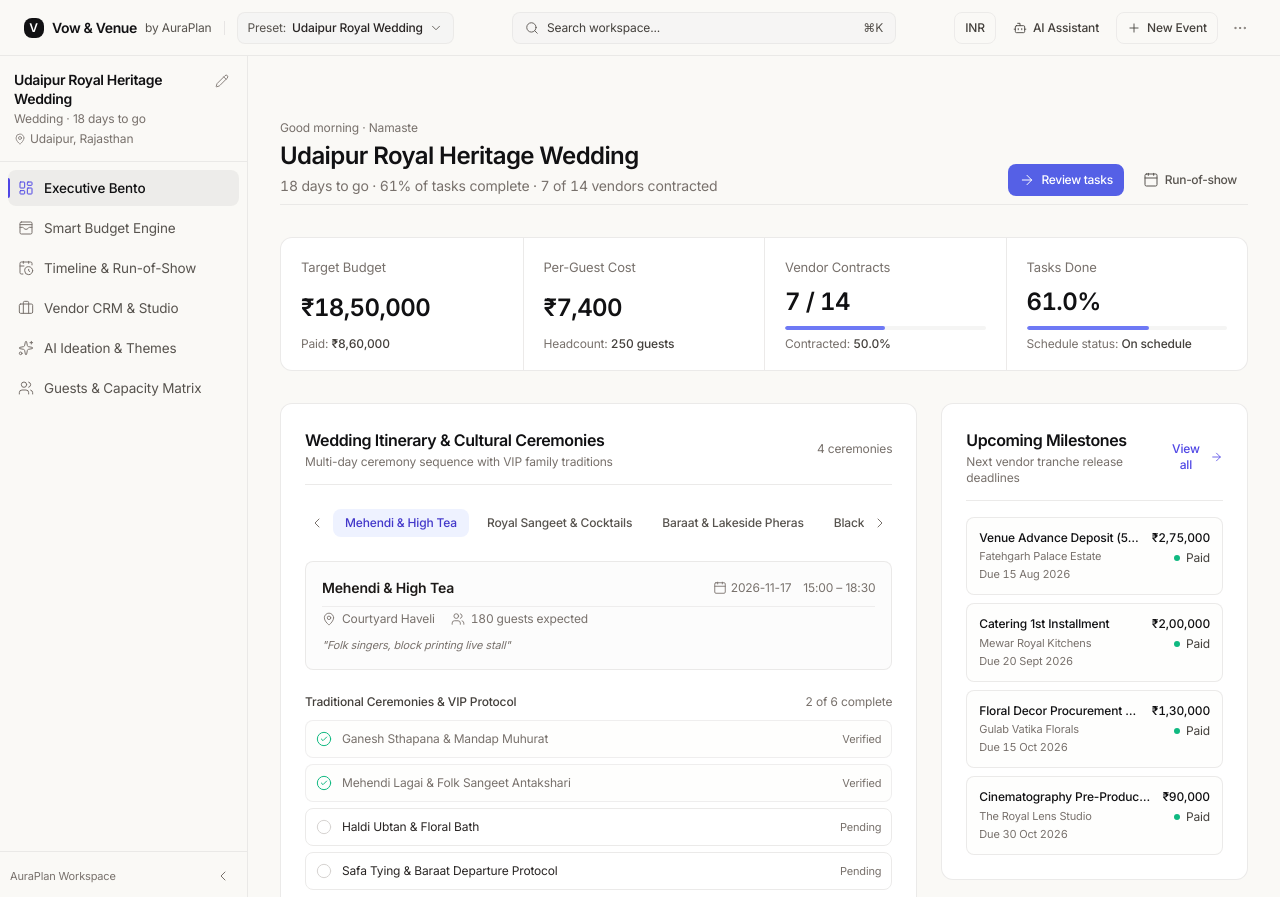
Test: A11y, Navigation & 1-Click Judge Presets Integration › Primary Navigation & View Transitions › transitions between tabs and loads the respective views
Note: Navigate to Budget Tab
What coordinates should you click on to do the following:
click the button "Smart Budget Engine"
I would click on:
 (124, 228)
Its box is [8, 210, 239, 246].
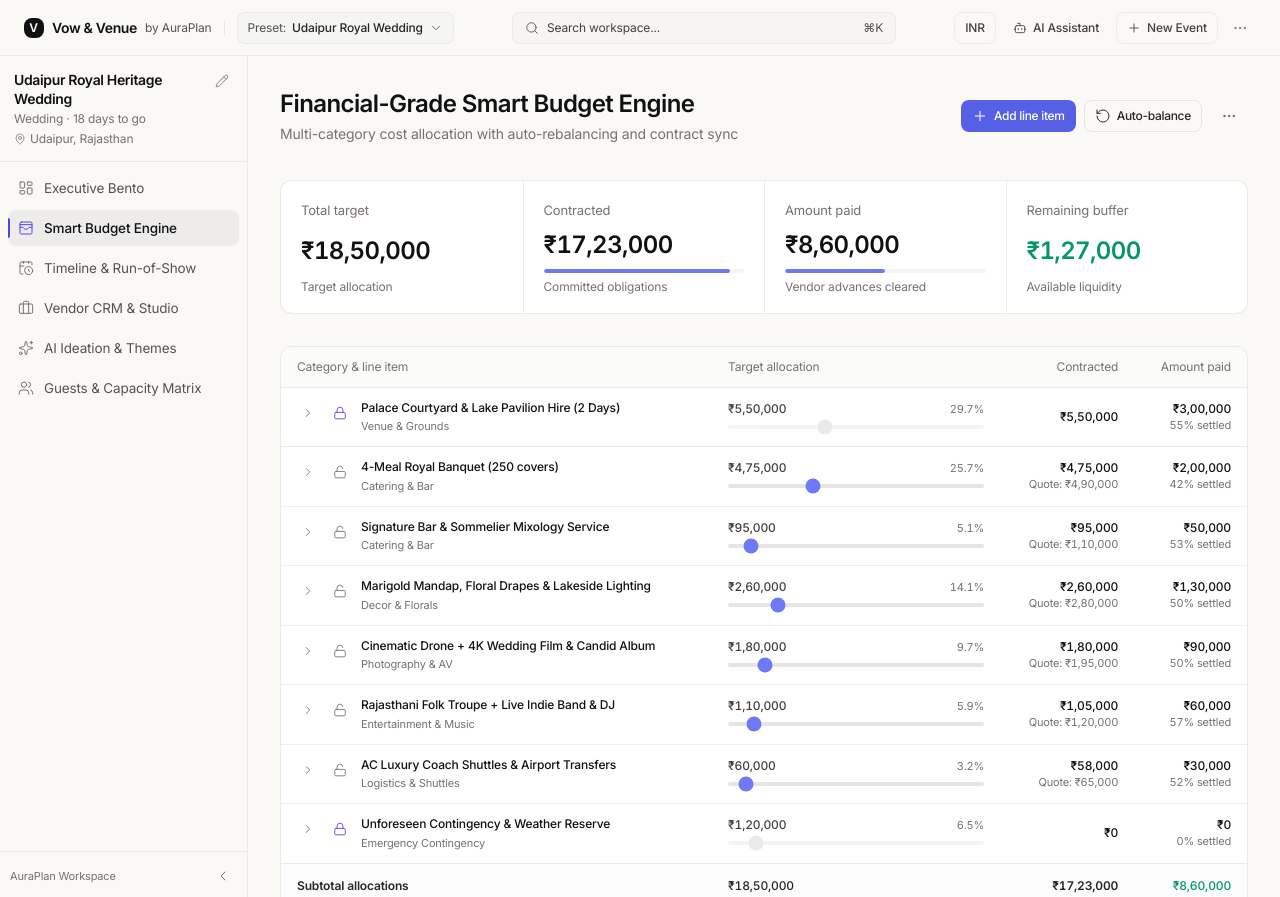
Expected: the heading "Financial-Grade Smart Budget Engine" is shown, [280, 88, 738, 120]
Note: Navigate to Timeline Tab
What coordinates should you click on to do the following:
click the button "Timeline & Run-of-Show"
I would click on:
 (124, 268)
Its box is [8, 250, 239, 286].
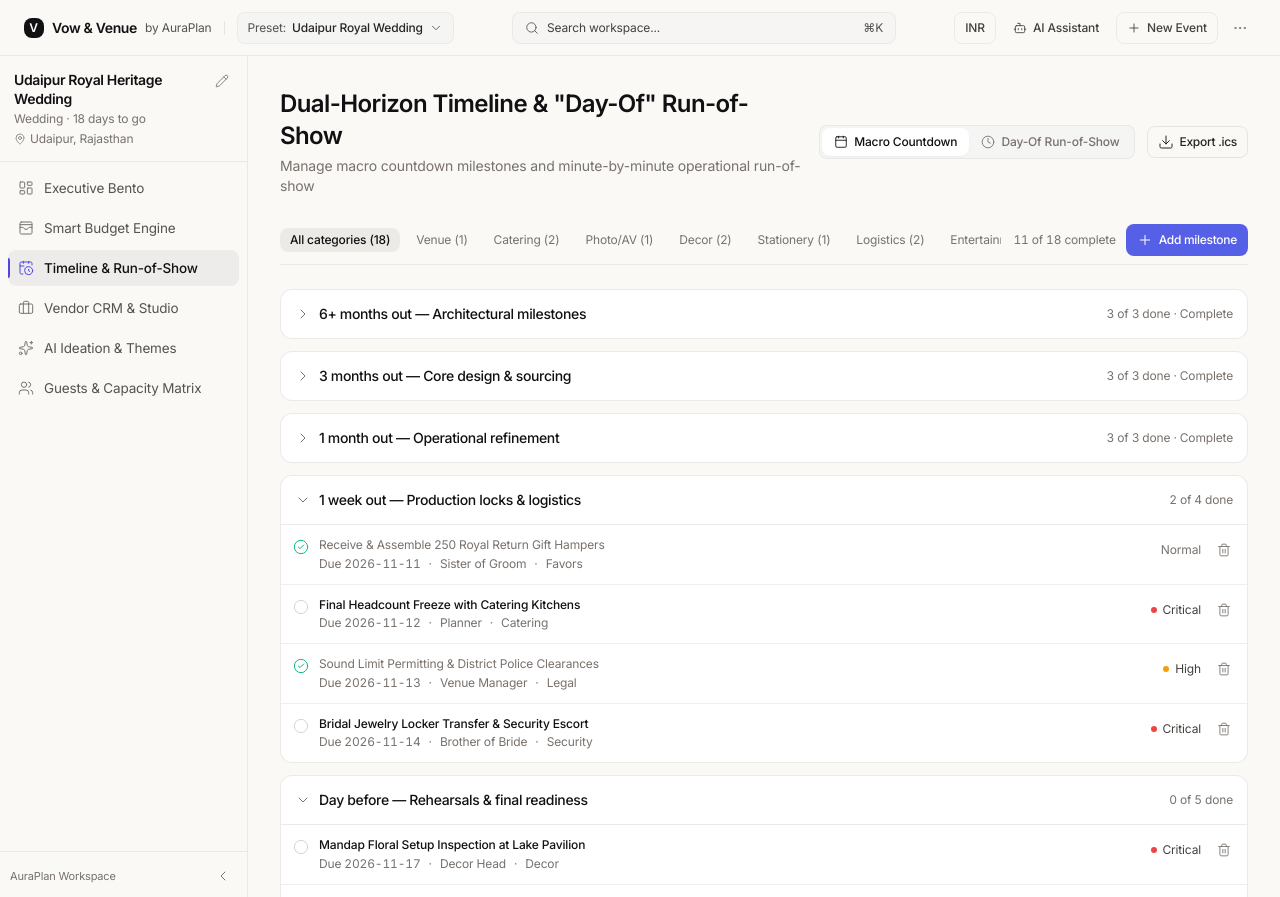
Expected: the heading "Dual-Horizon Timeline & \"Day-Of\" Run-of-Show" is shown, [280, 88, 803, 152]
